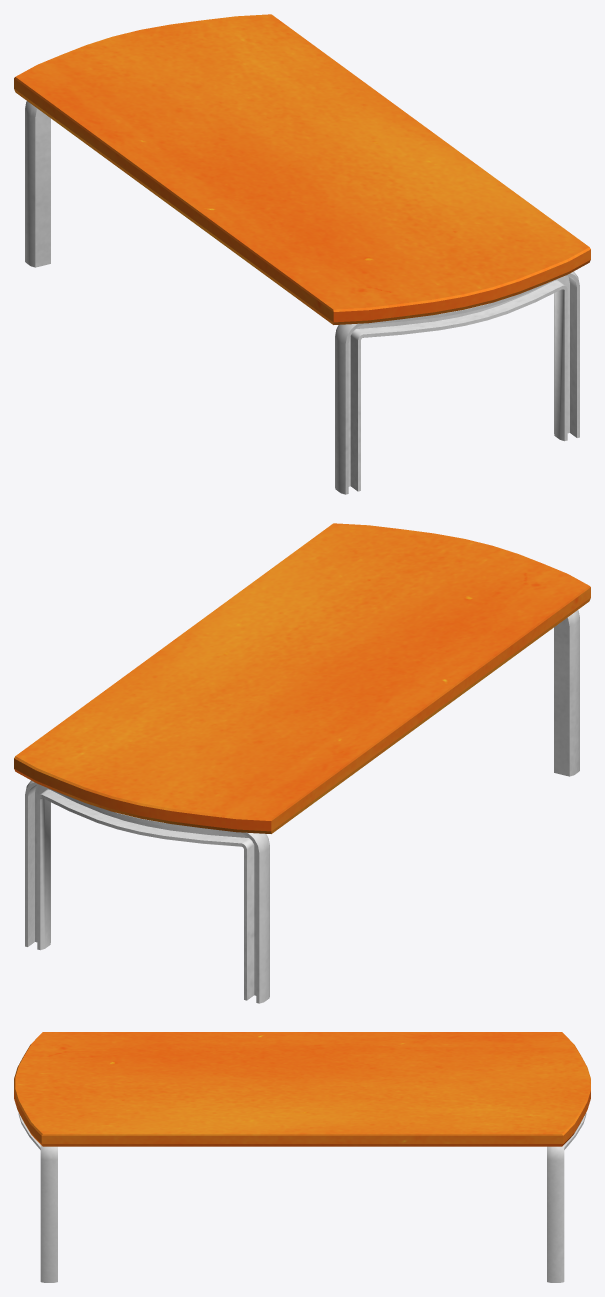
The model's file is desk.fbx.
3 renders of one model, top to bottom at view 1: azimuth 30°, elevation 25°; view 2: azimuth 150°, elevation 25°; view 3: azimuth 270°, elevation 25°, orthographic. The views are drawn at different scales.
Visible parts, largest first — view 1: desk; view 2: desk; view 3: desk.
Boxes of the visible parts, bbox=[...] form: desk: bbox=[14, 14, 590, 494]; desk: bbox=[14, 523, 590, 1003]; desk: bbox=[14, 1032, 590, 1282].
Bounding box in the file's own units: 127 × 87.7 × 301.
